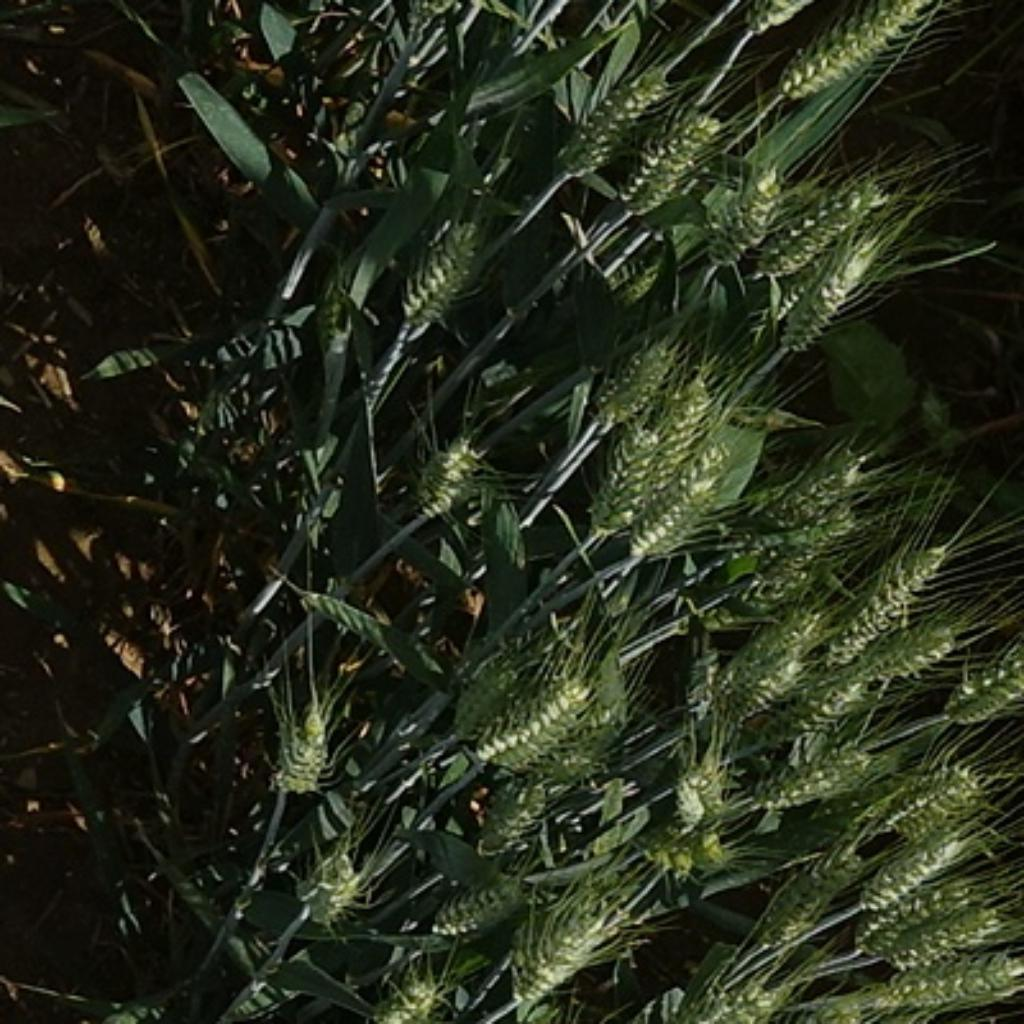0-0: (511, 878, 649, 1006), (765, 163, 903, 276), (870, 727, 1003, 844), (780, 2, 931, 97), (476, 663, 601, 773), (624, 440, 732, 565), (798, 601, 965, 680), (554, 71, 670, 183), (397, 213, 504, 334), (634, 366, 721, 504), (729, 599, 821, 729), (622, 104, 723, 221), (783, 237, 883, 352), (473, 747, 576, 857), (760, 430, 872, 529), (837, 532, 957, 624), (759, 840, 862, 945), (578, 419, 663, 545), (527, 701, 637, 793), (752, 734, 883, 811), (867, 873, 979, 959), (882, 951, 1024, 1018), (696, 173, 788, 273), (727, 528, 845, 605), (858, 835, 974, 912), (586, 332, 683, 424), (903, 905, 1023, 977), (942, 616, 1024, 721), (762, 663, 867, 742), (286, 834, 373, 929), (266, 691, 340, 798), (424, 870, 532, 939), (660, 750, 734, 839), (421, 433, 492, 511), (363, 967, 453, 1024), (652, 829, 729, 883), (483, 1021, 588, 1024)
